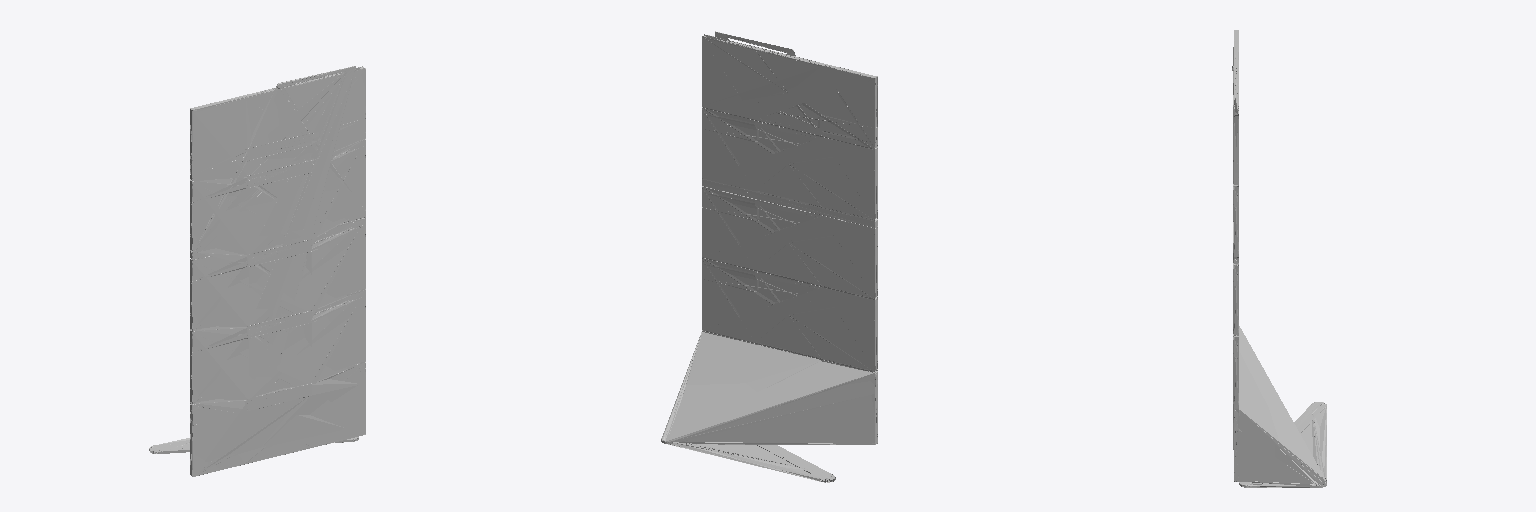
3 views of the same model, side by side, from view 1: azimuth 30°, elevation 25°; view 2: azimuth 150°, elevation 25°; view 3: azimuth 270°, elevation 25° (orthographic).
Parts seen in each view (by area): view 1: archmodels87_050_001; view 2: archmodels87_050_001; view 3: archmodels87_050_001.
Boxes of the visible parts, <box> form: archmodels87_050_001: <box>149,66,365,476</box>; archmodels87_050_001: <box>661,33,877,482</box>; archmodels87_050_001: <box>1232,30,1326,487</box>.
Bounding box in the file's own units: 28.58 × 59.76 × 13.54.